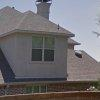Chimney: (31, 1, 61, 27)
